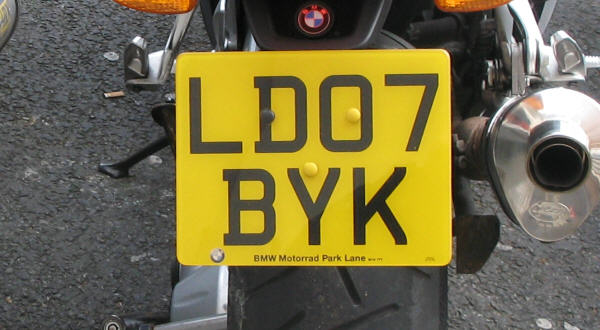license_plate: (175, 49, 453, 268)
